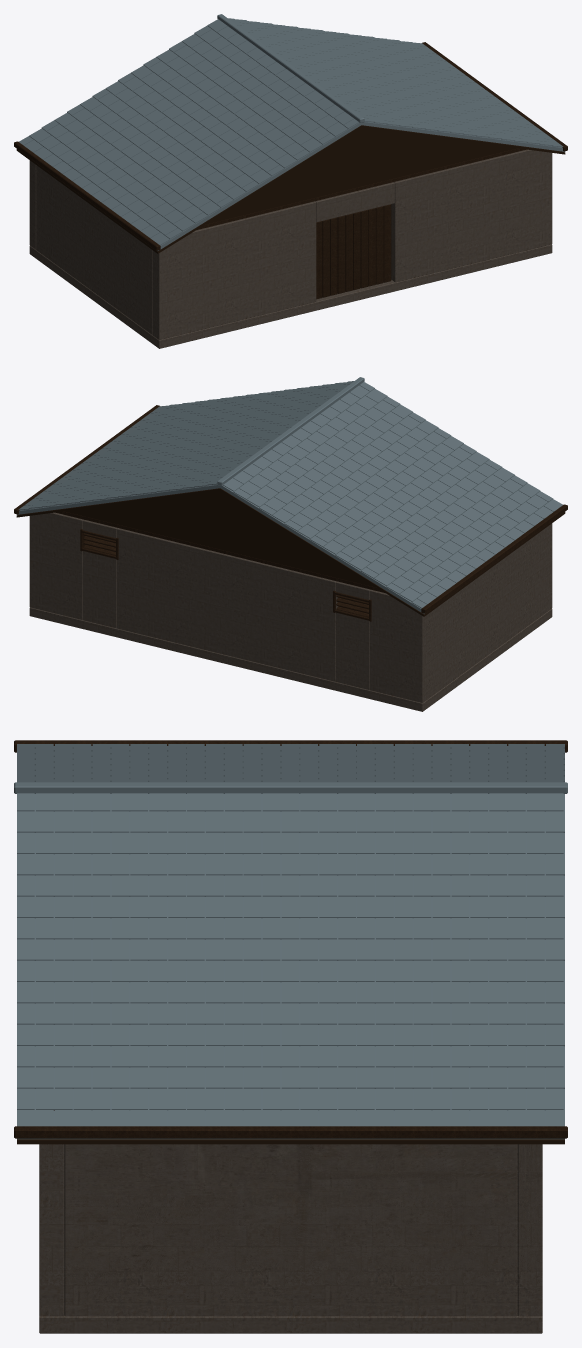
The model's file is s_caravan_store.glb.
3 renders of one model, top to bottom at view 1: azimuth 30°, elevation 25°; view 2: azimuth 150°, elevation 25°; view 3: azimuth 270°, elevation 25°, orthographic. The views are drawn at different scales.
Parts seen in each view (by area): view 1: slate roof, floor, vent jamb, Door plank.006, Door plank.009, Door plank.001, Door plank.007, Door plank.003, Door plank.008, Door plank.002, Door plank.005, Door plank (+1 smaller); view 2: slate roof, floor, vent jamb, rear wall pier-colonly.001; view 3: slate roof, floor, side wall-colonly.001, vent jamb, rear wall pier-colonly.002.
Boxes of the visible parts, left/top/right/bottom form: slate roof: left=19, top=14, right=565, bottom=250; floor: left=29, top=149, right=552, bottom=348; vent jamb: left=14, top=42, right=567, bottom=253; Door plank.006: left=360, top=210, right=368, bottom=288; Door plank.009: left=383, top=204, right=391, bottom=282; Door plank.001: left=337, top=215, right=345, bottom=293; Door plank.007: left=368, top=208, right=375, bottom=286; Door plank.003: left=322, top=219, right=329, bottom=297; Door plank.008: left=376, top=206, right=383, bottom=284; Door plank.002: left=330, top=217, right=337, bottom=295; Door plank.005: left=353, top=212, right=360, bottom=290; Door plank: left=345, top=213, right=352, bottom=291; slate roof: left=16, top=377, right=562, bottom=613; floor: left=29, top=512, right=552, bottom=711; vent jamb: left=14, top=405, right=567, bottom=621; rear wall pier-colonly.001: left=116, top=530, right=335, bottom=627; slate roof: left=14, top=744, right=567, bottom=1139; floor: left=39, top=1144, right=542, bottom=1333; side wall-colonly.001: left=64, top=1144, right=517, bottom=1316; vent jamb: left=14, top=740, right=567, bottom=1144; rear wall pier-colonly.002: left=518, top=1144, right=542, bottom=1316.
Size of what is drawn, in the model's own units: 14.66 by 6.37 by 8.8.
4 materials, 2 textured.
